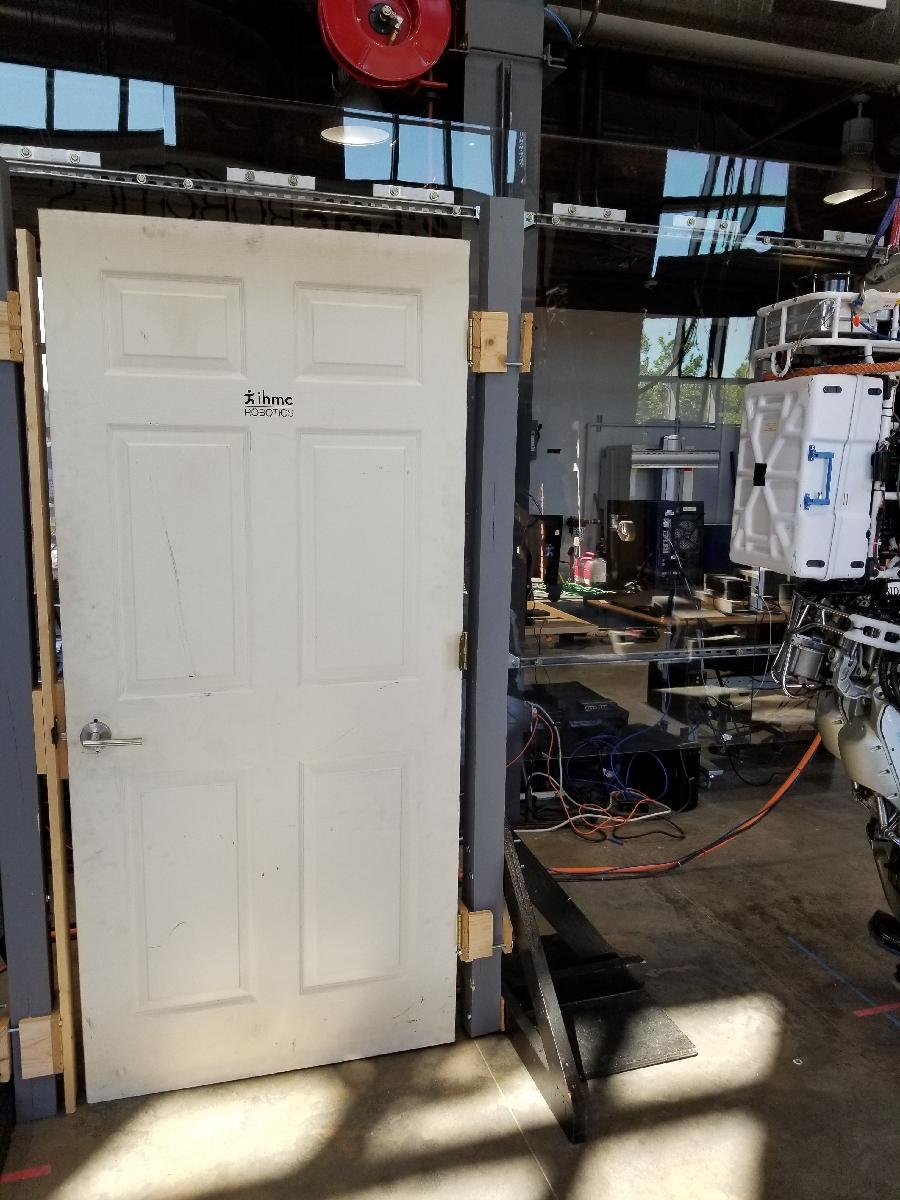door: (29, 198, 478, 1125)
doorHandle: (67, 702, 155, 766)
